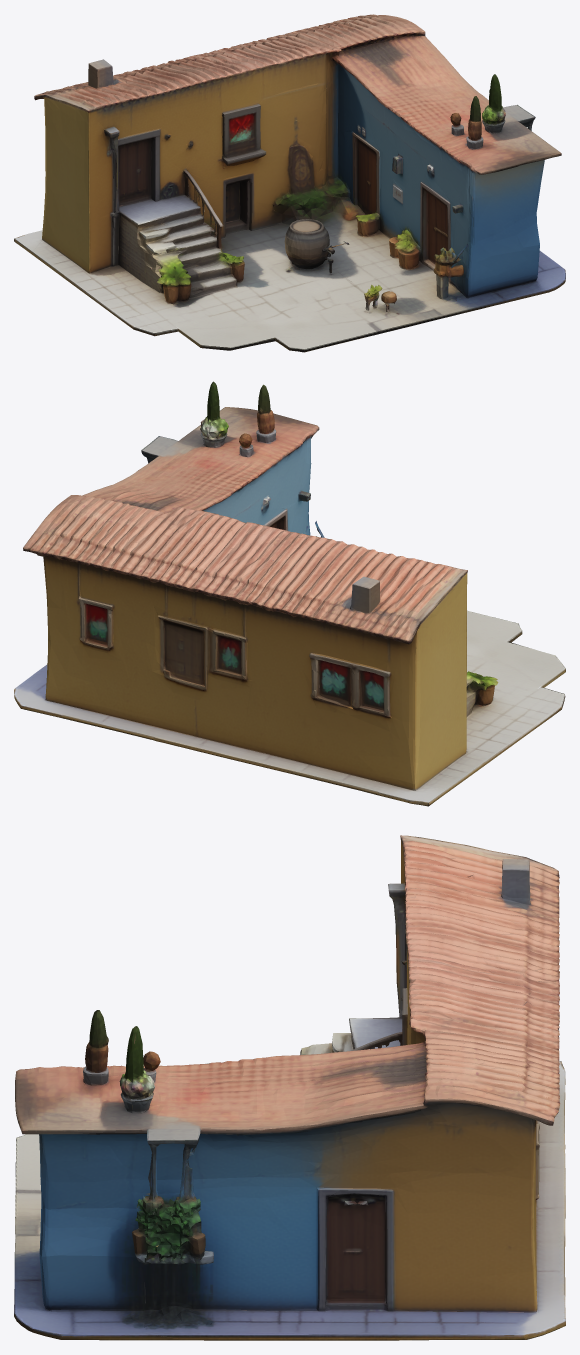
The model's file is mapa.glb.
3 views of the same model, one above another, from view 1: azimuth 30°, elevation 25°; view 2: azimuth 150°, elevation 25°; view 3: azimuth 270°, elevation 25° (orthographic). The views are drawn at different scales.
Parts seen in each view (by area): view 1: world; view 2: world; view 3: world.
Boxes of the visible parts, left/top/right/bottom form: world: left=14, top=14, right=565, bottom=352; world: left=14, top=381, right=565, bottom=806; world: left=14, top=835, right=565, bottom=1340.
Size of the model in its own units: 1 by 0.481 by 0.8503.
Materials: 1 (1 with a texture image).
